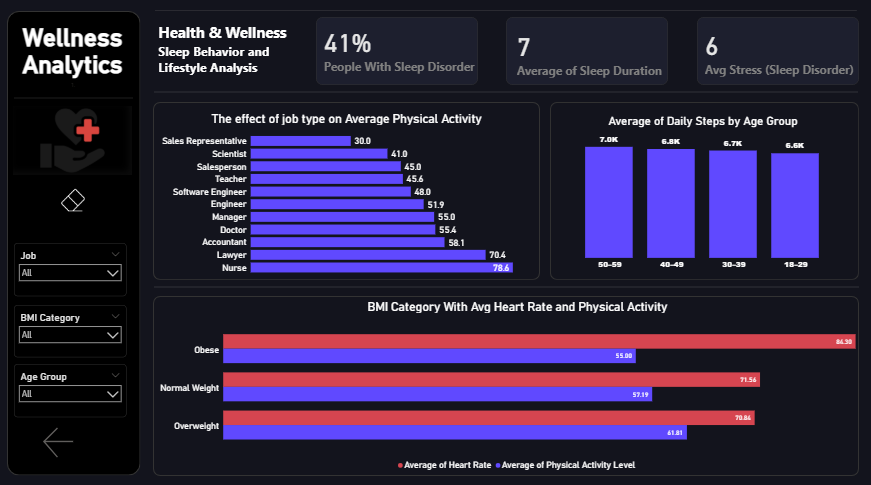

What the dashboard file says about the page in this screenshot:
{"tool":"powerbi","page":{"name":"Page 2","canvas":[1920,1080],"ordinal":1},"visuals":[{"type":"shape","box":[38,40.7,288.4,1003.4],"z":0},{"type":"shape","box":[357.5,13,1516.3,54],"z":1000},{"type":"shape","box":[354.2,656.6,1525,388.8],"z":2000},{"type":"textbox","box":[360.7,43.2,559.4,159.8],"z":3000},{"type":"shape","box":[1528.7,54,349.9,146.9],"z":4000},{"type":"shape","box":[356.4,611.3,1522.8,51.8],"z":5000},{"type":"shape","box":[1117.5,54,349.9,146.9],"z":6000},{"type":"cardVisual","fields":{"Data":["Health Care.Avg Stress (Sleep Disorder)"]},"box":[1529.3,67,380.2,125.3],"z":7000},{"type":"shape","box":[355.3,153.4,1520.6,125.3],"z":8000},{"type":"shape","box":[54,194.4,257,69.1],"z":9000},{"type":"slicer","fields":{"Values":["Health Care.Age Group"]},"box":[54.2,802.5,242.5,115],"z":10000},{"type":"slicer","fields":{"Values":["Health Care.Job"]},"box":[54.2,542.5,242.5,115],"z":11000},{"type":"slicer","fields":{"Values":["Health Care.BMI Category"]},"box":[54.2,675,242.5,112.5],"z":12000},{"type":"image","box":[110.2,395.3,142.6,108],"z":13000},{"type":"textbox","title":"Wellness  Analytics","box":[51.8,67,257,146.9],"z":14000},{"type":"image","box":[51.8,246.2,257,149],"z":15000},{"type":"cardVisual","fields":{"Data":["Avg(Health Care.Sleep Duration)"]},"box":[1123.2,69.1,358.6,125.3],"z":16000},{"type":"shape","box":[706.3,54,349.9,146.9],"z":17000},{"type":"cardVisual","fields":{"Data":["Health Care.% With Sleep Disorder"]},"box":[706.3,60.5,386.6,131.8],"z":18000},{"type":"shape","box":[354.2,237.6,835.9,384.5],"z":19000},{"type":"shape","box":[1211.8,237.6,667.4,384.5],"z":20000},{"type":"barChart","title":"The effect of job type on Average Physical Activity","fields":{"Category":["Health Care.Job"],"Y":["Avg(Health Care.Physical Activity Level)"]},"box":[367.2,257,810,365],"z":21000},{"type":"clusteredBarChart","title":"BMI Category With Avg Heart Rate and Physical Activity","fields":{"Category":["Health Care.BMI Category"],"Y":["Avg(Health Care.Heart Rate)","Avg(Health Care.Physical Activity Level)"]},"box":[362.9,663.1,1557.4,382.3],"z":22000},{"type":"actionButton","box":[110,932.5,80,80],"z":23000},{"type":"lineClusteredColumnComboChart","fields":{"Category":["Health Care.Age Group"],"Y":["Avg(Health Care.Daily Steps)"]},"box":[1229,263.5,626.4,347.8],"z":24000}]}

Visuals, with their boxes in screenshot pixels (x1, y1, x2, y2), scaled from the page's 1920x1080 canvas onto the 871x485 screenshot:
shape: (17, 18, 148, 469)
shape: (162, 6, 850, 30)
shape: (161, 295, 852, 469)
textbox: (164, 19, 417, 91)
shape: (693, 24, 852, 90)
shape: (162, 275, 852, 298)
shape: (507, 24, 666, 90)
cardVisual - Health Care.Avg Stress (Sleep Disorder): (694, 30, 866, 86)
shape: (161, 69, 851, 125)
shape: (24, 87, 141, 118)
slicer - Health Care.Age Group: (25, 360, 135, 412)
slicer - Health Care.Job: (25, 244, 135, 295)
slicer - Health Care.BMI Category: (25, 303, 135, 354)
image: (50, 178, 115, 226)
"Wellness  Analytics" textbox: (23, 30, 140, 96)
image: (23, 111, 140, 177)
cardVisual - Avg(Health Care.Sleep Duration): (510, 31, 672, 87)
shape: (320, 24, 479, 90)
cardVisual - Health Care.% With Sleep Disorder: (320, 27, 496, 86)
shape: (161, 107, 540, 279)
shape: (550, 107, 852, 279)
"The effect of job type on Average Physical Activity" barChart: (167, 115, 534, 279)
"BMI Category With Avg Heart Rate and Physical Activity" clusteredBarChart: (165, 298, 870, 469)
actionButton: (50, 419, 86, 455)
lineClusteredColumnComboChart - Health Care.Age Group x Avg(Health Care.Daily Steps): (558, 118, 842, 275)
